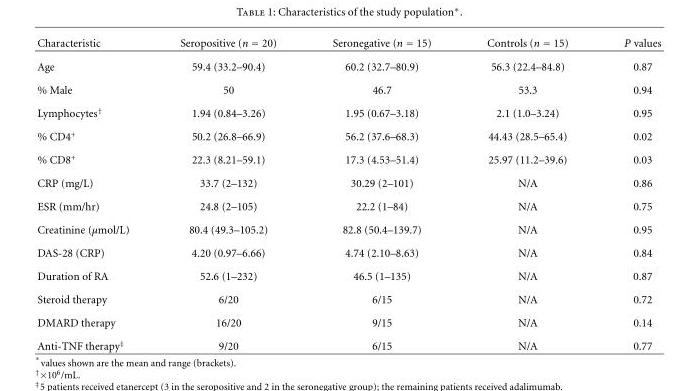table: (36, 36, 660, 351)
table column: (303, 36, 458, 351), (154, 36, 303, 351), (458, 36, 595, 351), (36, 36, 154, 351), (595, 36, 660, 351)
table column header: (36, 36, 660, 57)
table row: (36, 100, 660, 124), (36, 147, 660, 171), (36, 217, 660, 241), (36, 77, 660, 100), (36, 124, 660, 147), (36, 171, 660, 194), (36, 194, 660, 217), (36, 241, 660, 264), (36, 264, 660, 287), (36, 287, 660, 310), (36, 310, 660, 333), (36, 36, 660, 57), (36, 57, 660, 77), (36, 333, 660, 351)
